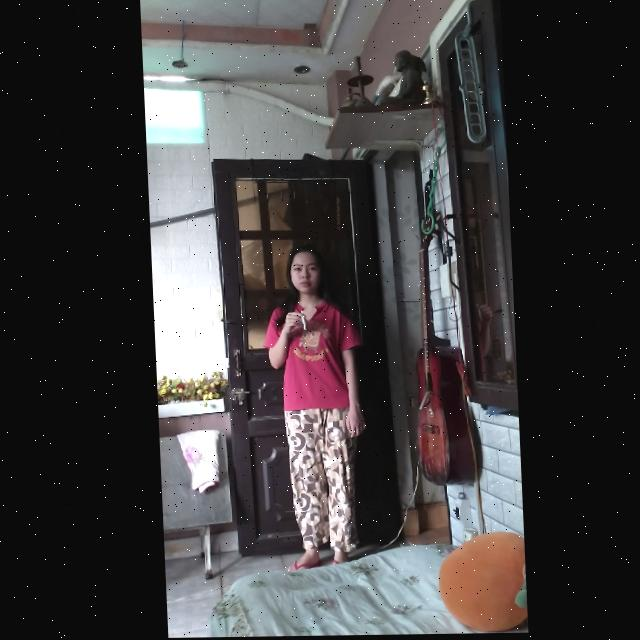cigarette: (298, 312, 303, 331)
